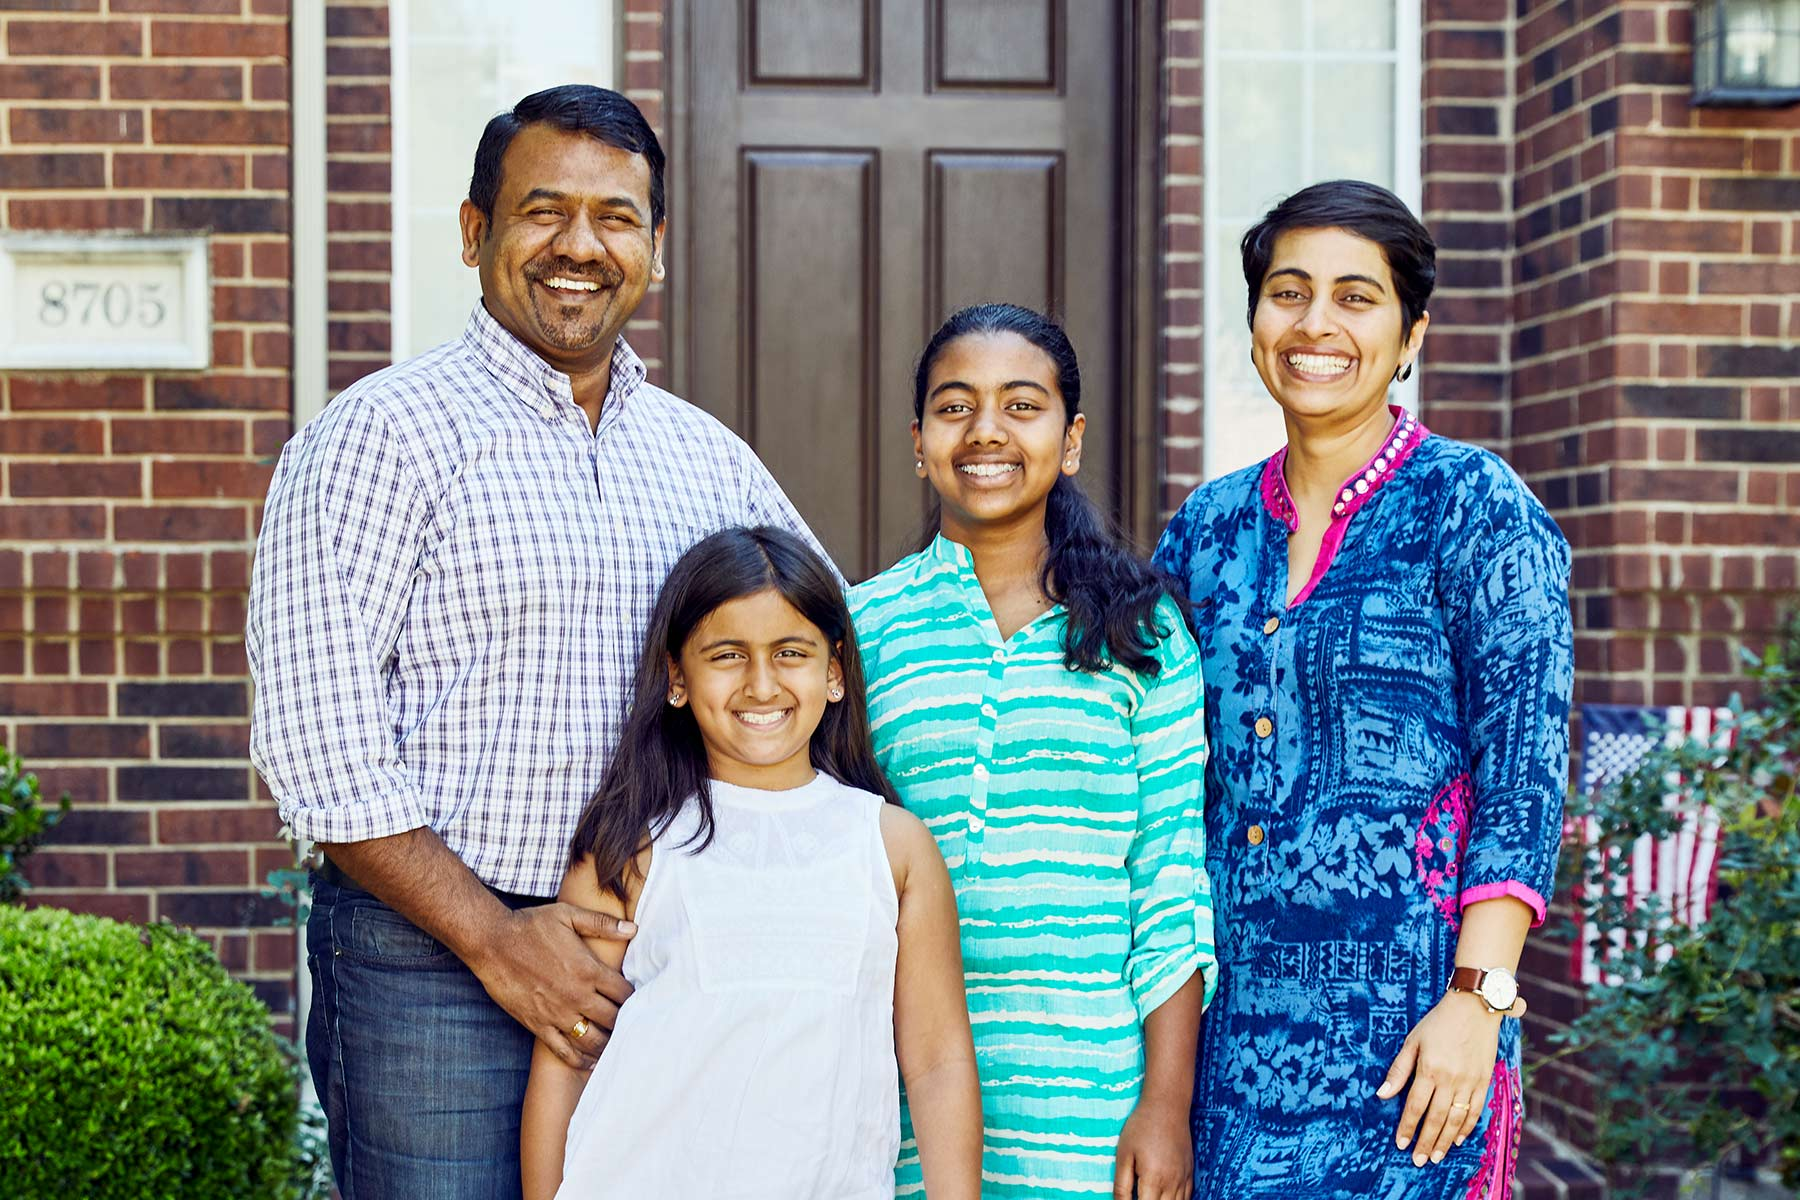men: (427, 70, 710, 376)
women: (641, 521, 874, 793), (1221, 172, 1446, 440), (888, 299, 1107, 543)
